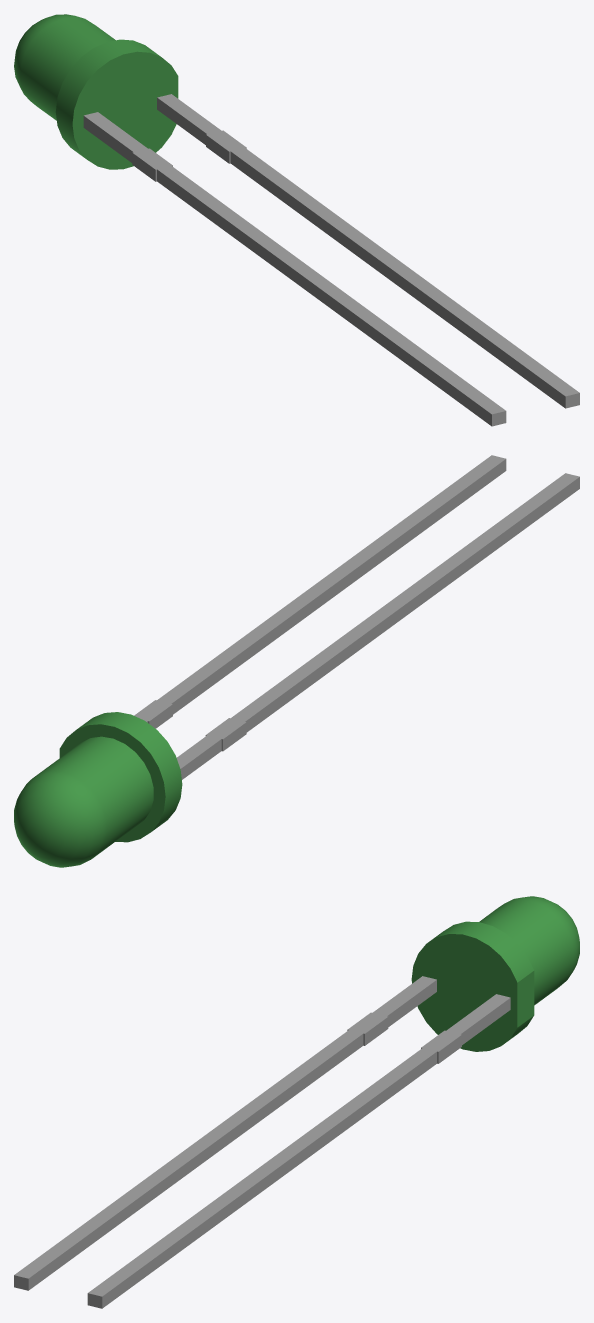
The model's file is 3MMLED-GREEN v1.obj.
3 renders of one model, top to bottom at view 1: azimuth 30°, elevation 25°; view 2: azimuth 150°, elevation 25°; view 3: azimuth 330°, elevation 25°, orthographic.
Parts seen in each view (by area): view 1: Solid1; view 2: Solid1; view 3: Solid1.
Boxes of the visible parts, x1=… form: Solid1: x1=14, y1=14, x2=579, y2=426; Solid1: x1=14, y1=455, x2=579, y2=867; Solid1: x1=14, y1=896, x2=579, y2=1308.
Size of the model in its own units: 3.65 by 3.79 by 29.7.
